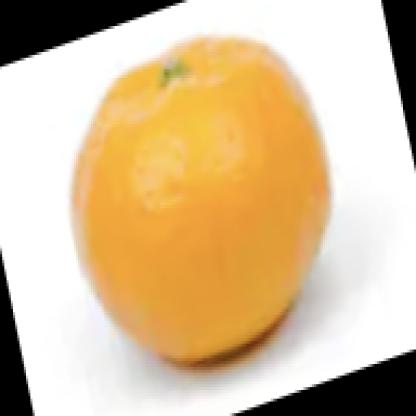fresh: (73, 38, 329, 367)
